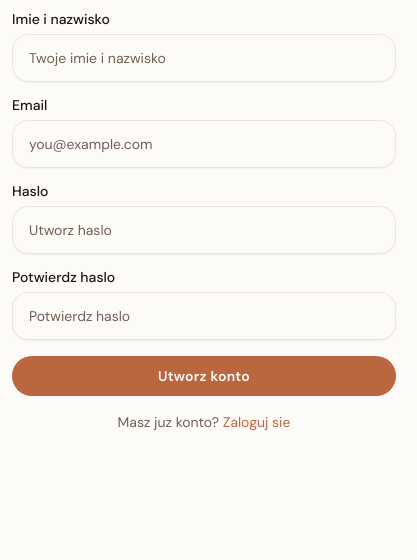
Test: SignUpForm › clears field errors when user types
Submit empty to trigger errors
Click the button "Utworz konto" at (204,376), box [12, 356, 396, 396]
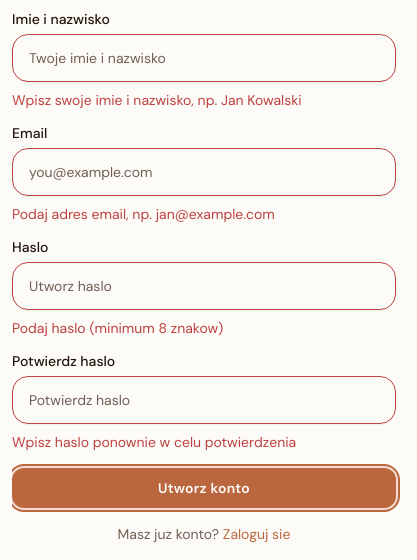
Result: the text "Wpisz swoje imie i nazwisko, np. Jan Kowalski" is shown at [12, 91, 302, 109]
Start typing in name field
Type "J" into the field labelled "Imie i nazwisko" at (204,58), box [12, 34, 396, 82]
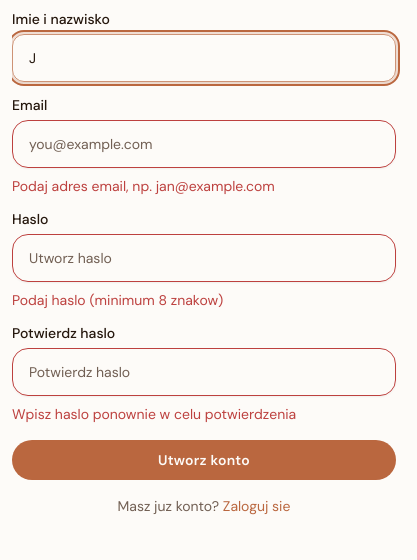
Result: the text "Wpisz swoje imie i nazwisko, np. Jan Kowalski" is gone
